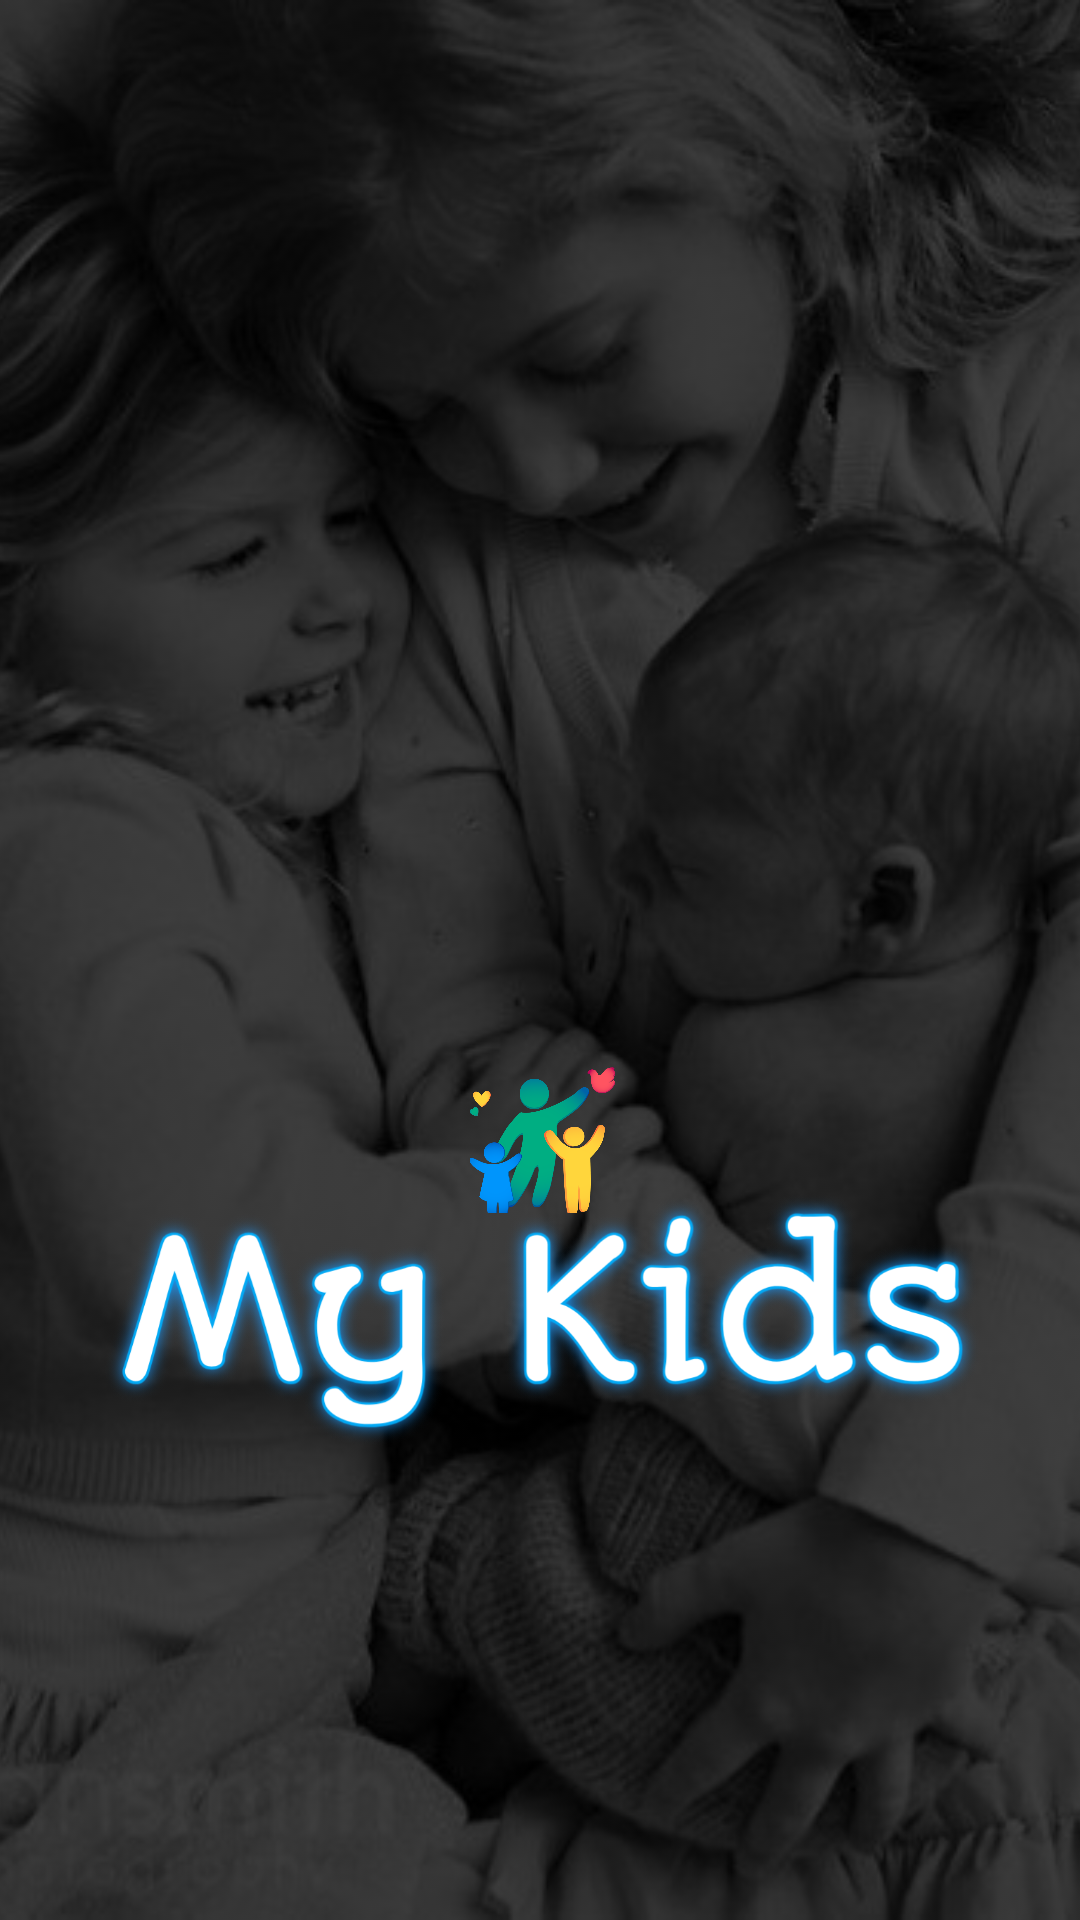

Screen size 1080x1920. Icon name, then its box in pixels as (x1, y1, x2, y2):
parent: (465, 1064, 615, 1214)
